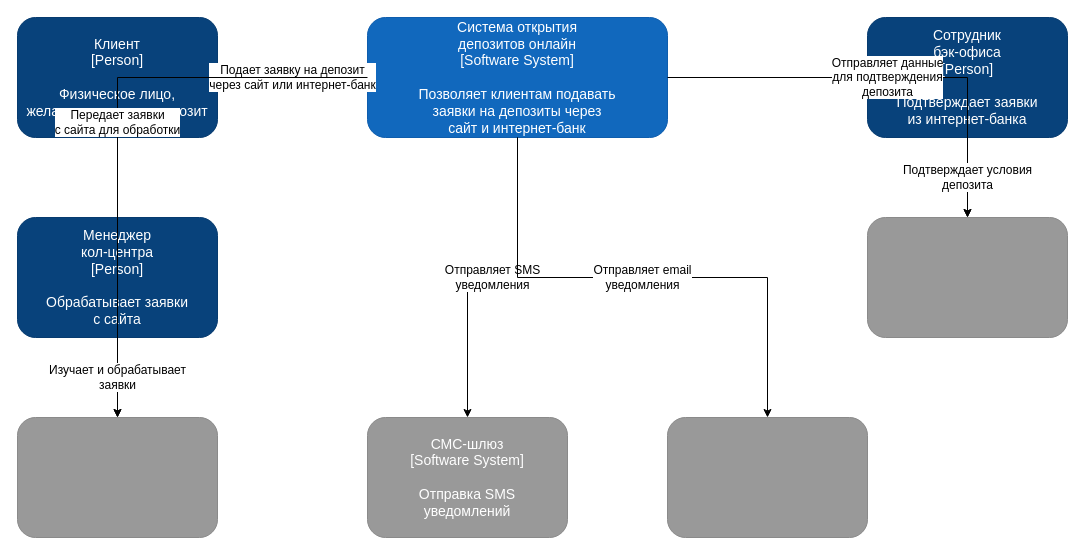
Some shapes in this 1085 by 555 pixel diagram are drawn without their labels. The centre of each missing label's shape, as x and y in pixels:
"Email-сервис [Software System] Отправка email уведомлений" goes at point 767,477.
"АБС [Software System] Автоматизированная банковская система" goes at point 967,277.
"Кол-центр [Software System] Система обработки звонков и заявок" goes at point 117,477.
